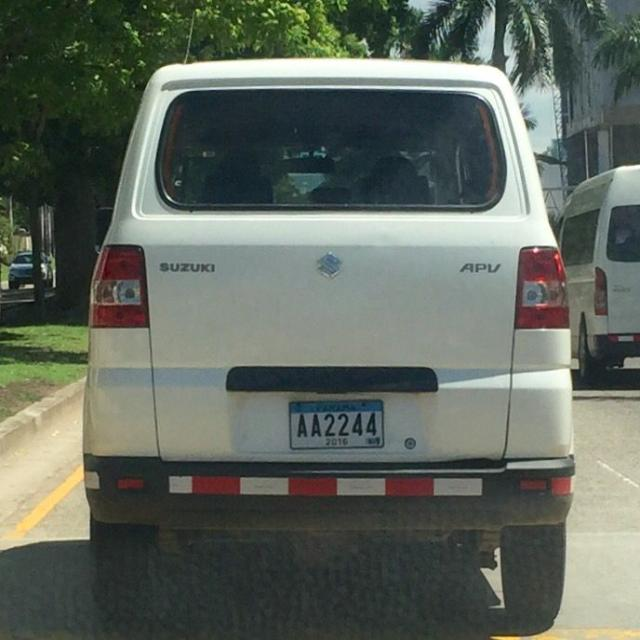Placas: (287, 395, 386, 452)
